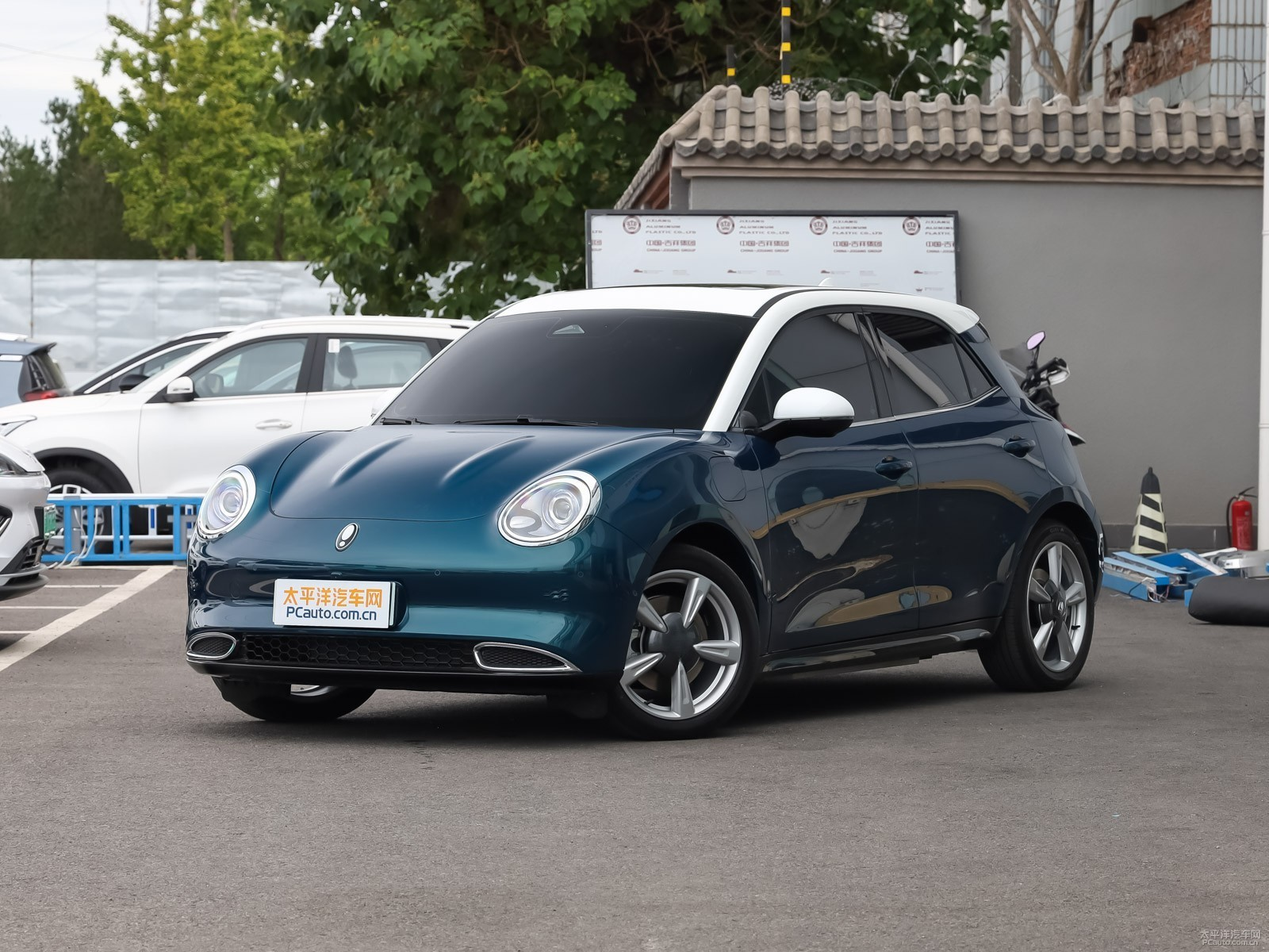ORA: (335, 524, 358, 551)
